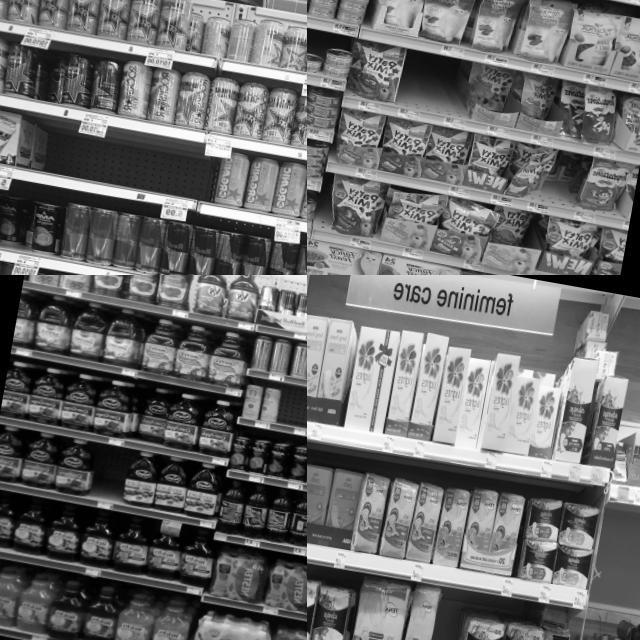empty: (41, 127, 200, 209), (398, 51, 459, 126), (90, 446, 128, 510), (421, 598, 463, 640)
